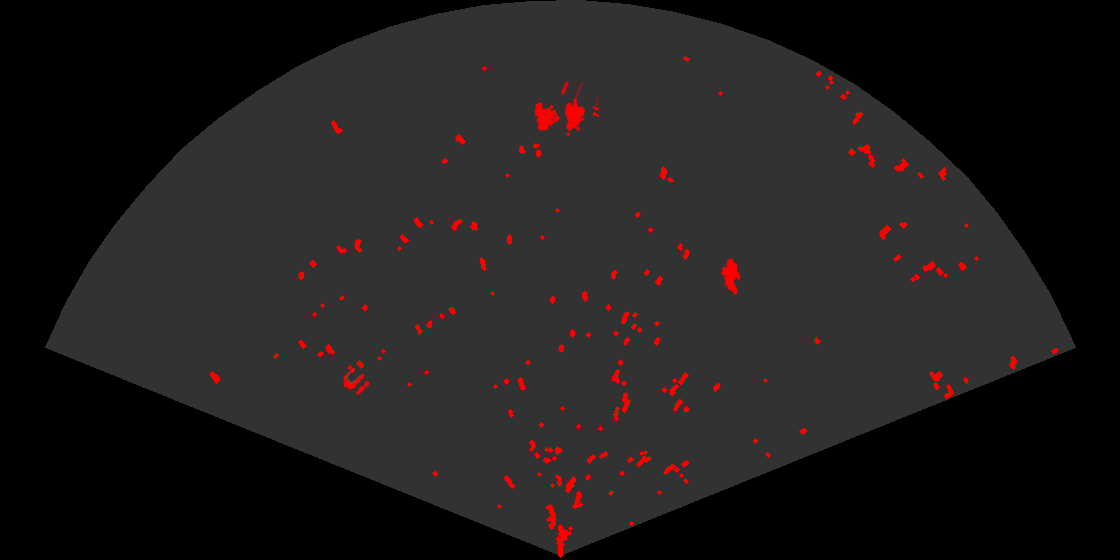AUV: (719, 256, 742, 297)
ball: (341, 366, 371, 396)
cage: (533, 82, 599, 138)
